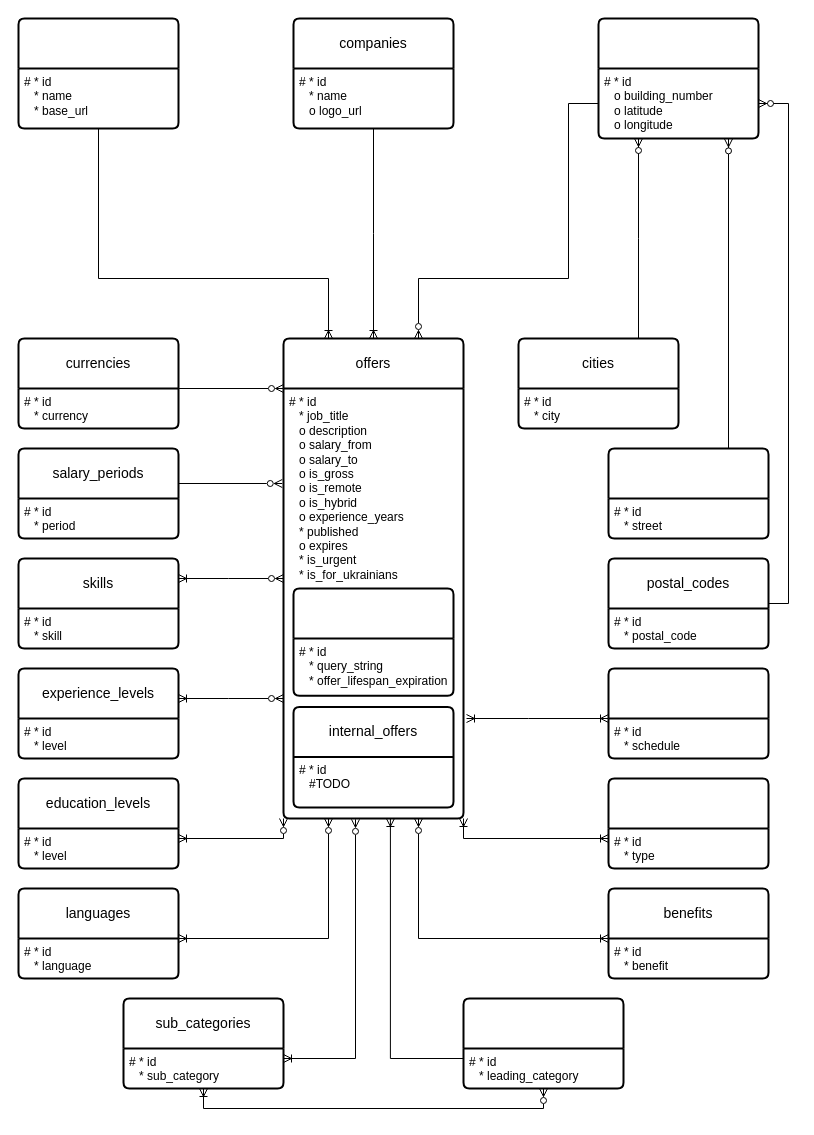
This 814x1135 diagram has some shape labels left out. The shapes that lost their labels are listed below. From the top down, each one's box as (x1, y1, x2, y2) in pixels, then its label:
(17, 17, 179, 129): sources
(597, 17, 759, 139): location_details
(607, 447, 769, 539): streets
(292, 587, 454, 696): external_offers
(607, 667, 769, 759): employment_schedules
(607, 777, 769, 869): employment_types
(462, 997, 624, 1089): leading_categories
